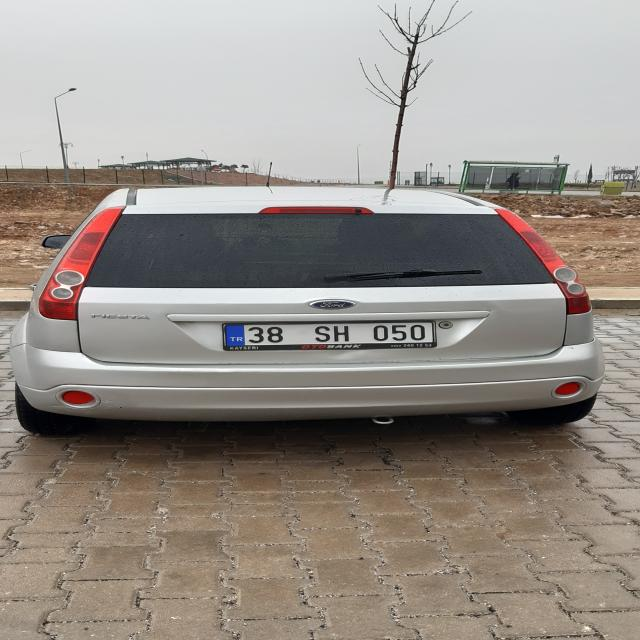plate: (223, 322, 435, 346)
